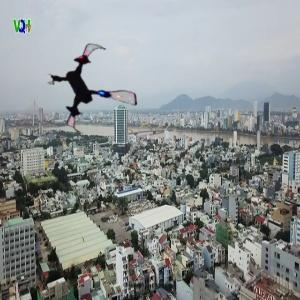drone: (45, 42, 141, 138)
